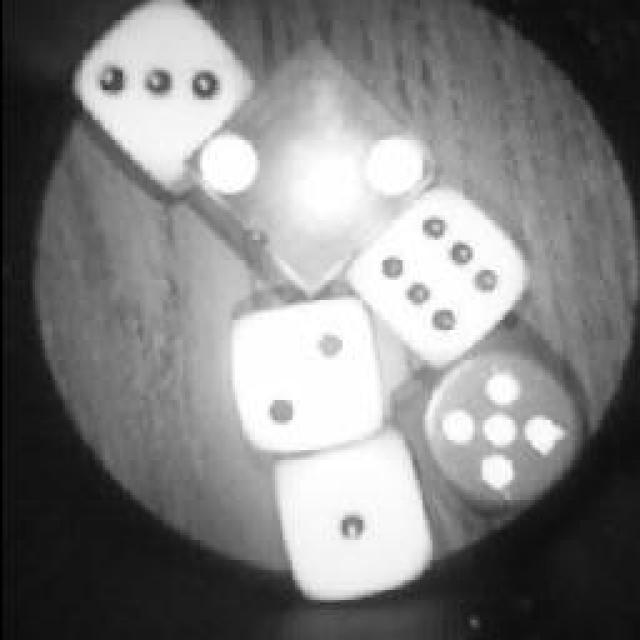dice_1: (282, 437, 432, 605)
dice_2: (195, 45, 435, 300), (232, 298, 380, 450)
dice_3: (55, 0, 245, 190)
dice_5: (410, 348, 582, 508)
dice_6: (353, 193, 525, 365)
